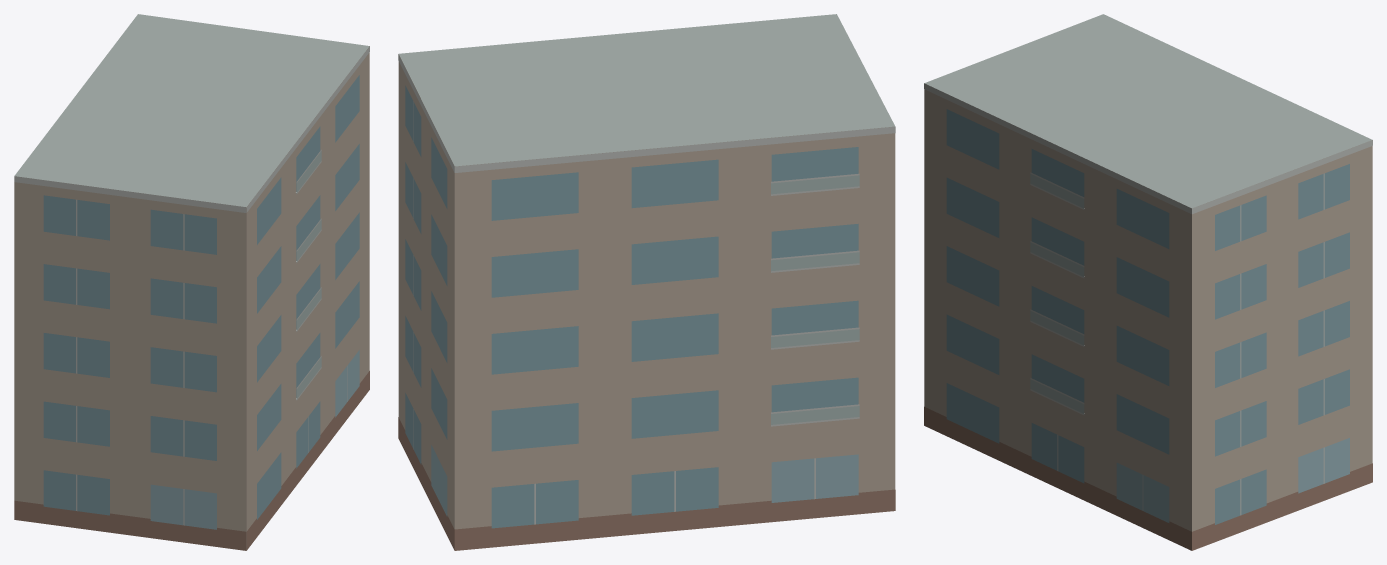
File: survey-upis-32582504.glb
The picture shows the model from 3 angles, left to right: view 1: azimuth 30°, elevation 25°; view 2: azimuth 150°, elevation 25°; view 3: azimuth 270°, elevation 25°; orthographic projection. The views are drawn at different scales.
Visible parts, largest first — view 1: survey-upis-32582504.tmp; view 2: survey-upis-32582504.tmp; view 3: survey-upis-32582504.tmp.
Boxes of the visible parts, box(x1,y1,x2,y2) form: survey-upis-32582504.tmp: box(14, 14, 369, 550); survey-upis-32582504.tmp: box(398, 14, 895, 550); survey-upis-32582504.tmp: box(924, 14, 1372, 550).
Size of the model in its own units: 17.18 by 14.1 by 16.75.
